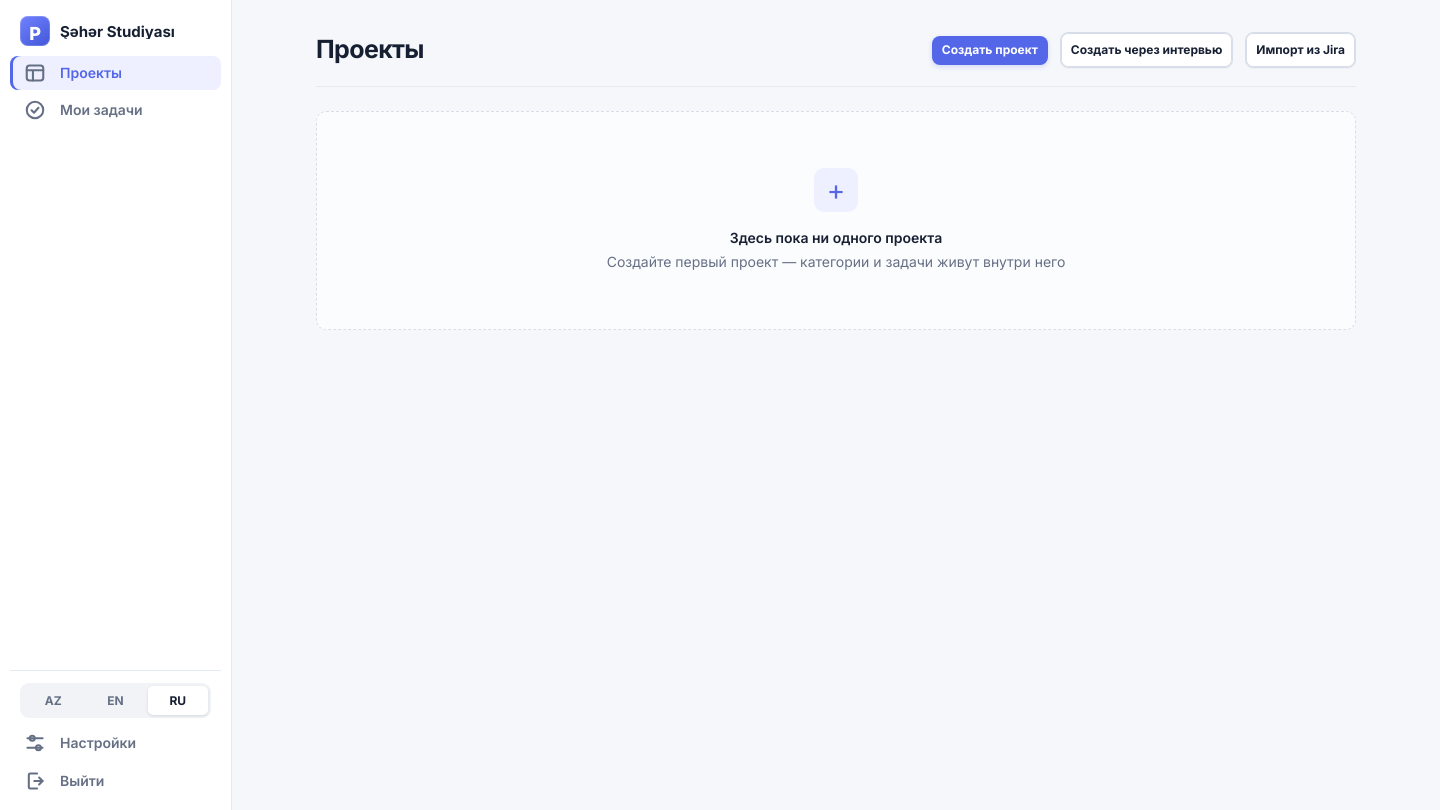
Test: шапка › сворачивается щелчком по логотипу и запоминает выбор
Click the button with aria-label "Скрыть меню" at [116, 31], box [10, 16, 221, 46]
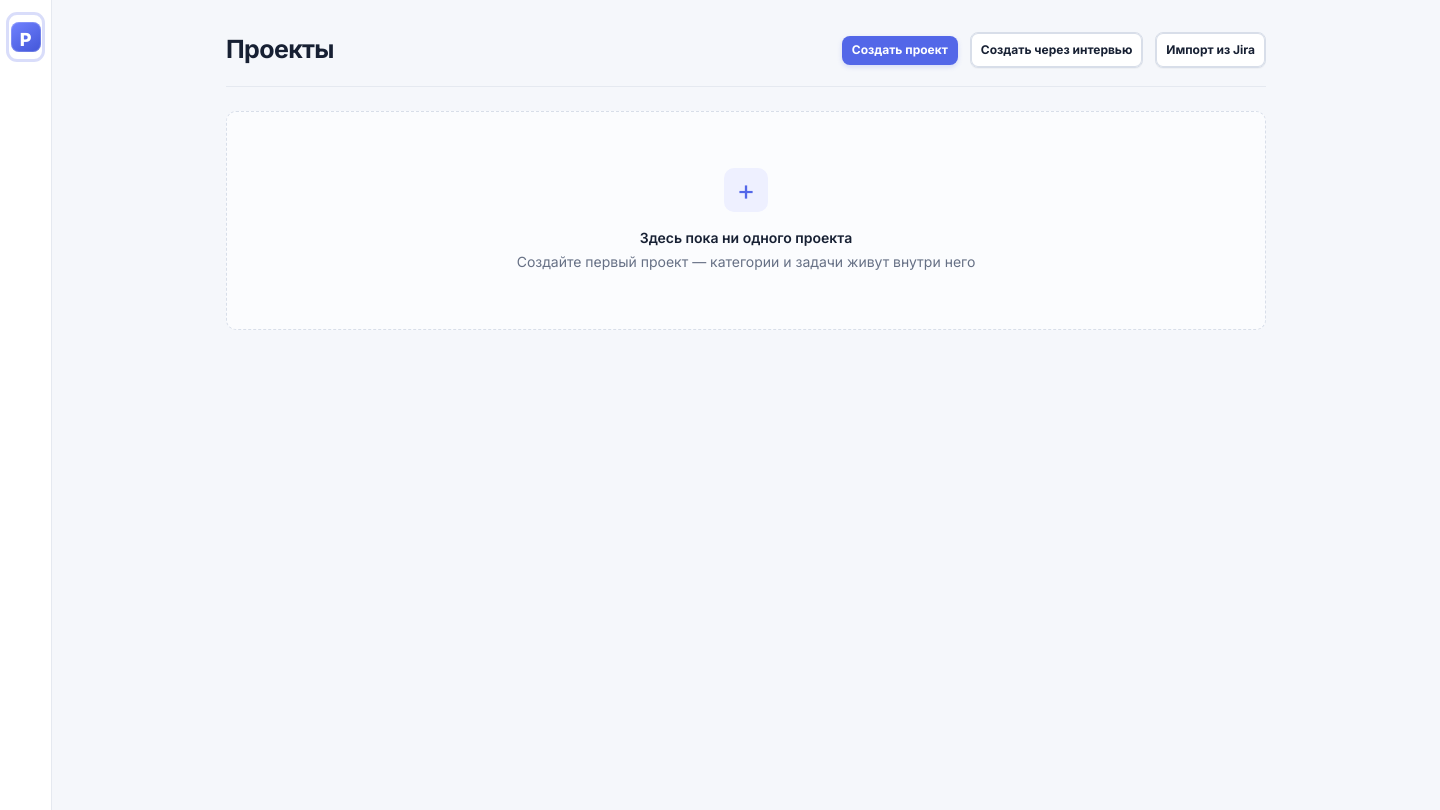
Now the button named "Показать меню" is shown
Click the button named "Показать меню" at [26, 37], box [10, 16, 41, 58]
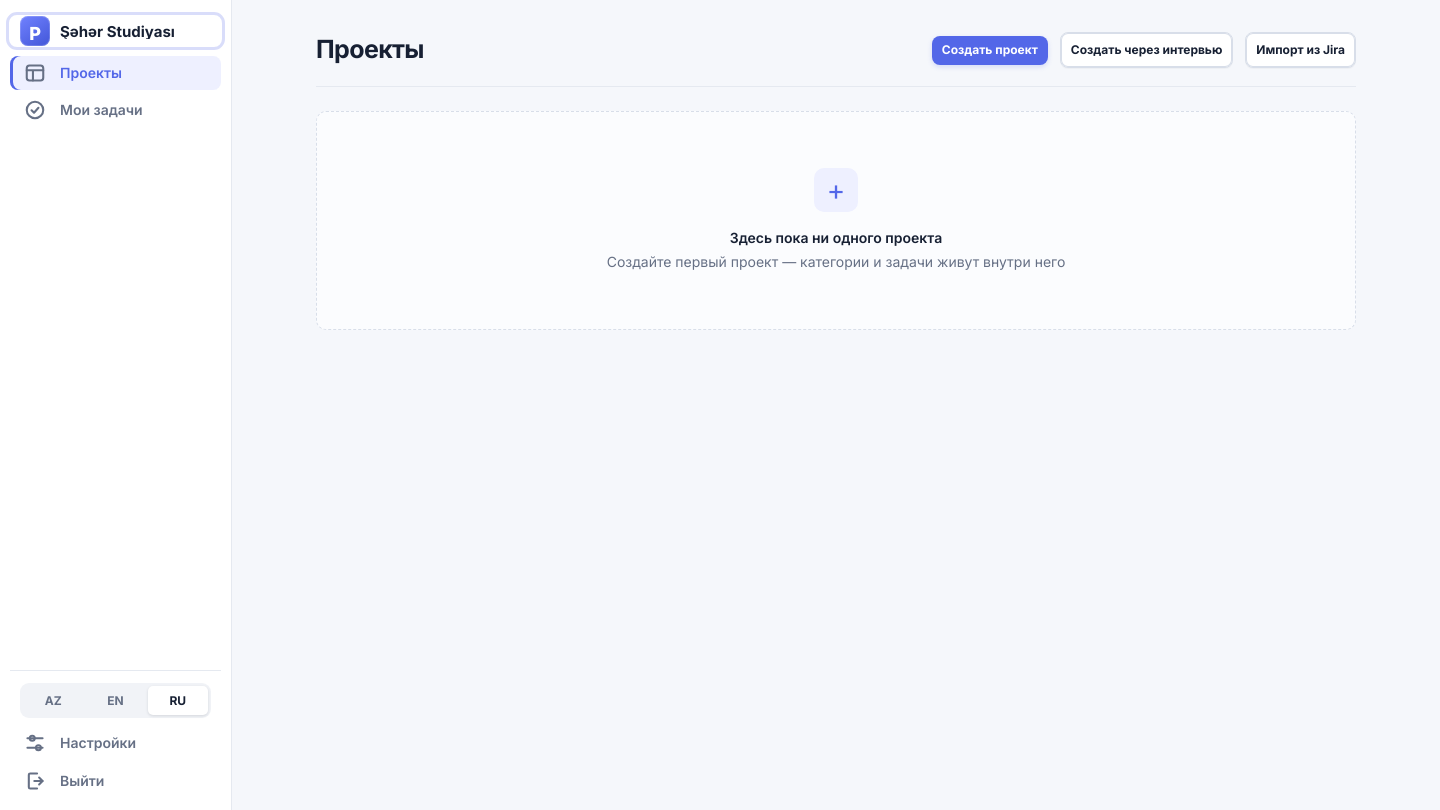
Now the button with aria-label "Скрыть меню" is shown, box [10, 16, 221, 46]
